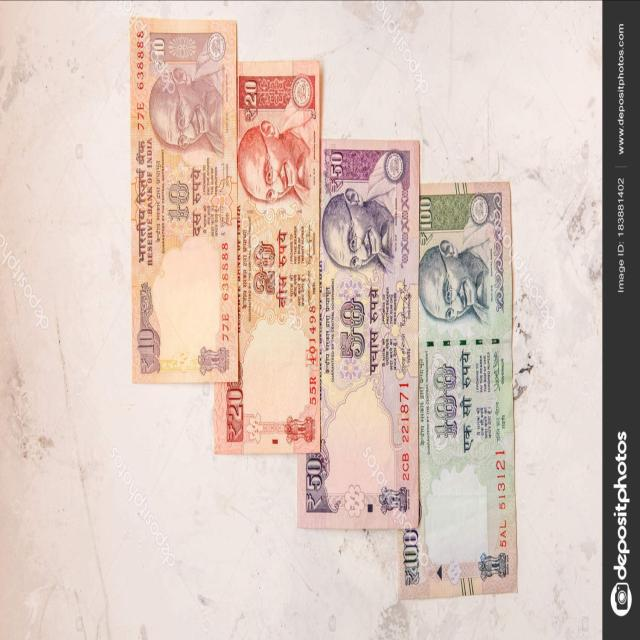20IndianRupees: (213, 64, 321, 455)
